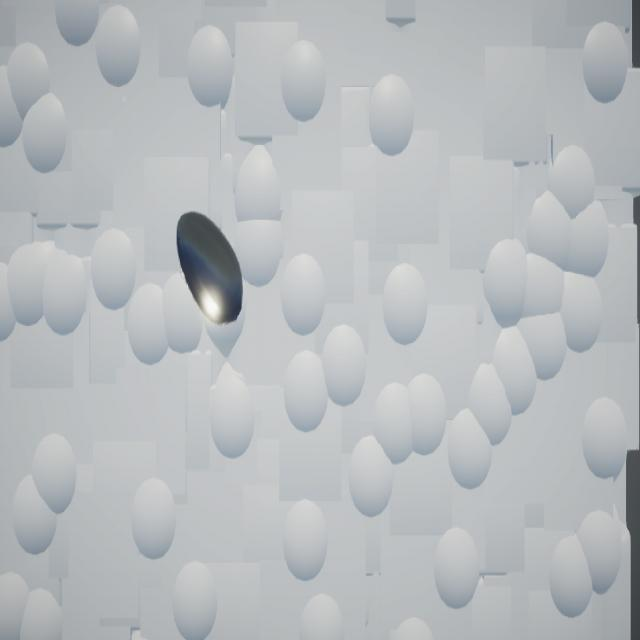top_spoon: (177, 212, 244, 326)
